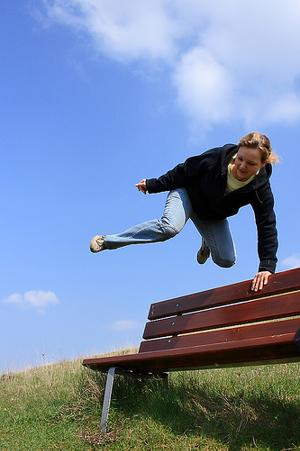person: (91, 131, 281, 295)
